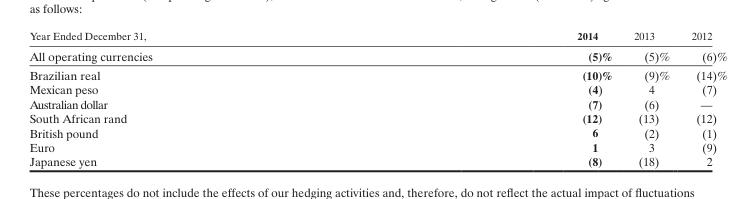table: (28, 29, 726, 168)
table column: (28, 29, 364, 168), (364, 29, 622, 168), (622, 29, 680, 168), (680, 29, 726, 168)
table column header: (28, 29, 726, 45)
table row: (28, 45, 726, 65), (28, 65, 726, 82), (28, 29, 726, 45), (28, 110, 726, 125), (28, 153, 726, 168), (28, 82, 726, 96), (28, 96, 726, 110), (28, 125, 726, 139), (28, 139, 726, 153)
